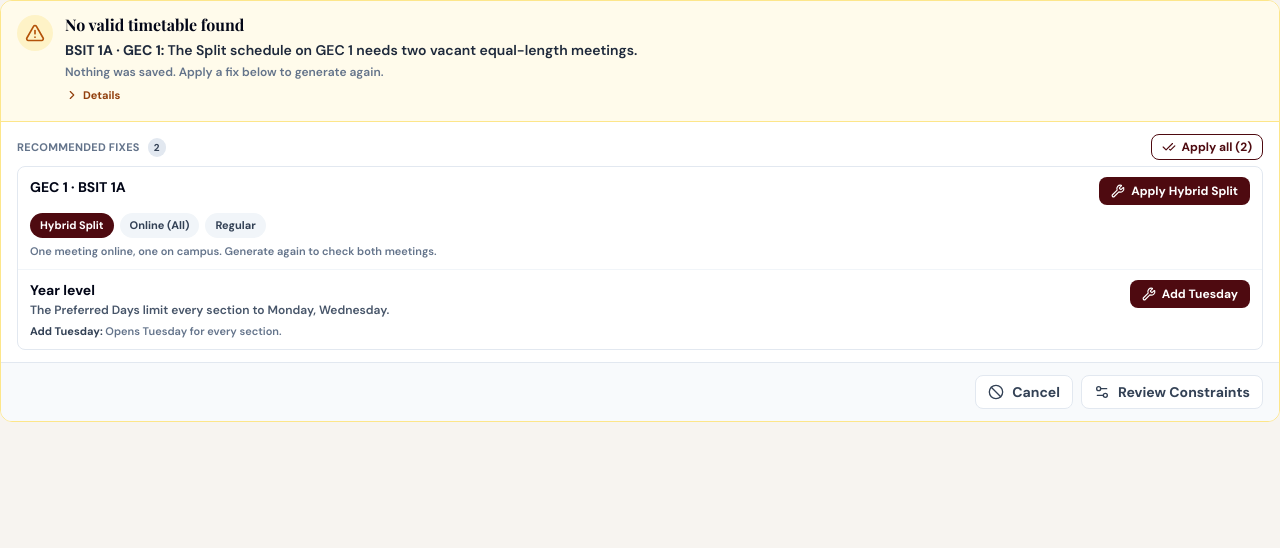
Scenario: RecommendedAdjustmentPanel › says what blocked the run in one line and keeps the evidence under Details
The width and height of the screenshot is (1280, 548).
Expected: the text "BSIT 1A · GEC 1:" is shown, [65,41,168,59]
Expected: the text "needs two vacant equal-length meetings" is shown, [168,41,637,59]
Step 1. Click the button "Details" → [93, 95], box [65,87,120,103]
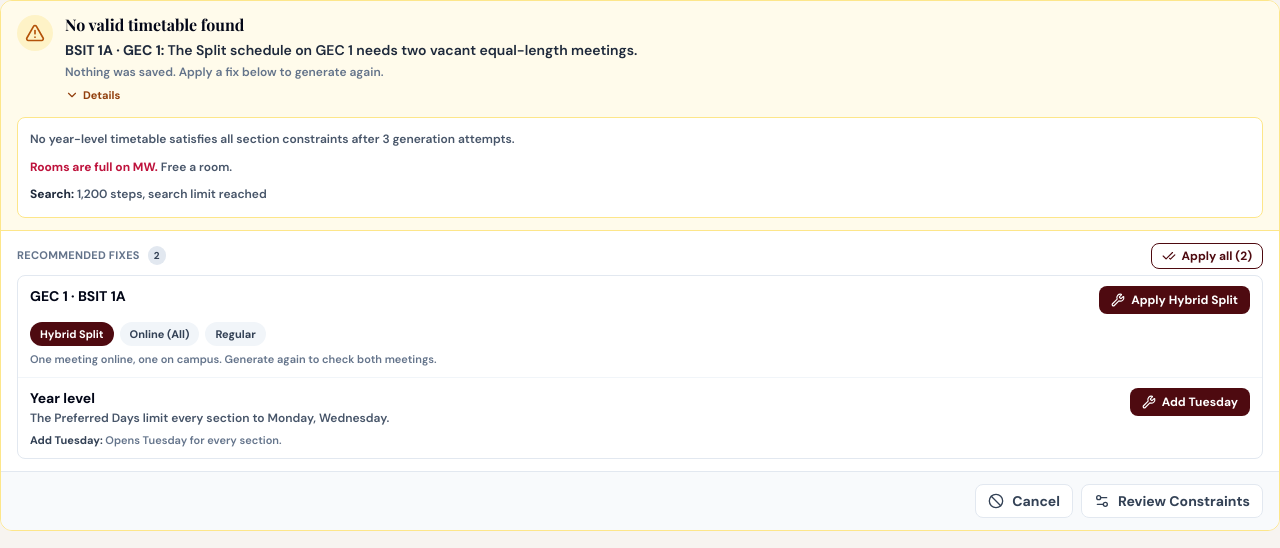
Now the text "Rooms are full on MW." is shown, box [30,158,158,174]
Now the text "Search: 1,200 steps, search limit reached" is shown, box [30,186,267,202]
